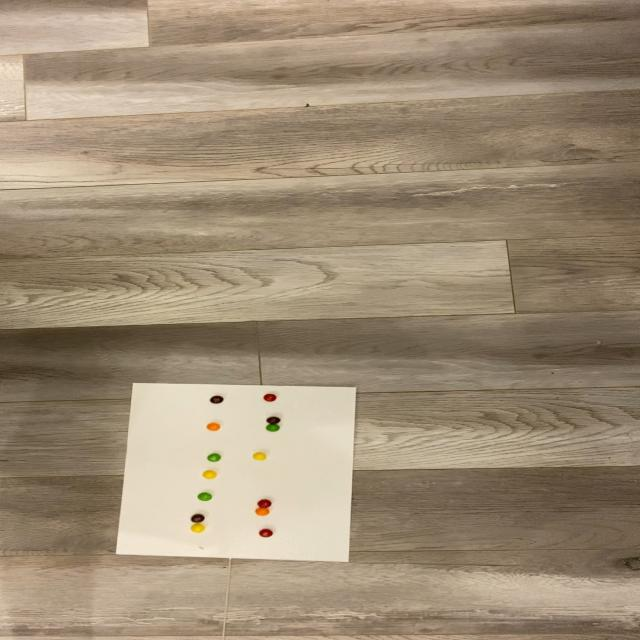smartie: (203, 470, 219, 480), (198, 492, 213, 502), (189, 524, 204, 534), (254, 507, 270, 516), (191, 513, 205, 523), (266, 416, 281, 425), (265, 424, 280, 433), (252, 453, 267, 462), (257, 499, 272, 508), (263, 394, 277, 403), (208, 453, 222, 462), (259, 529, 273, 538), (206, 423, 221, 431), (210, 396, 224, 404)
